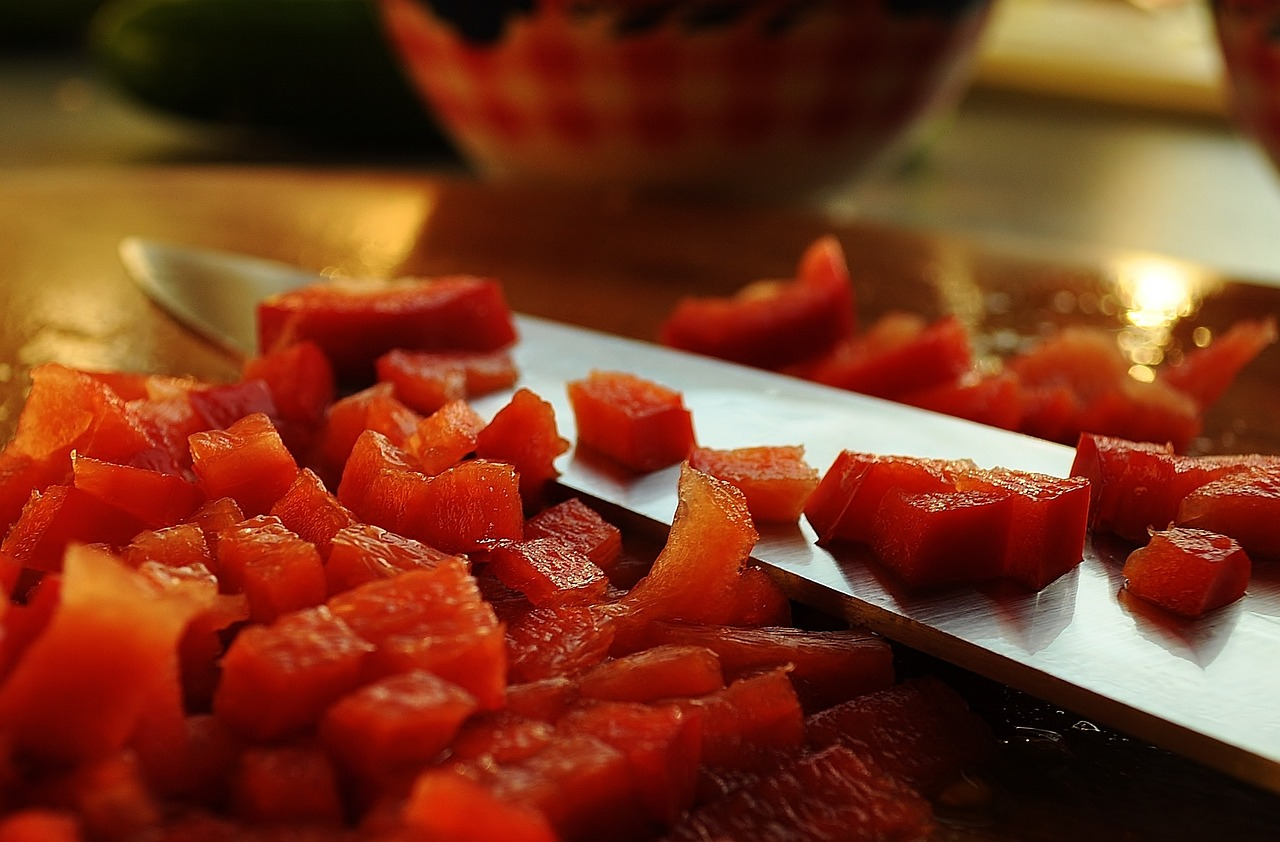knife: (103, 216, 1280, 775)
